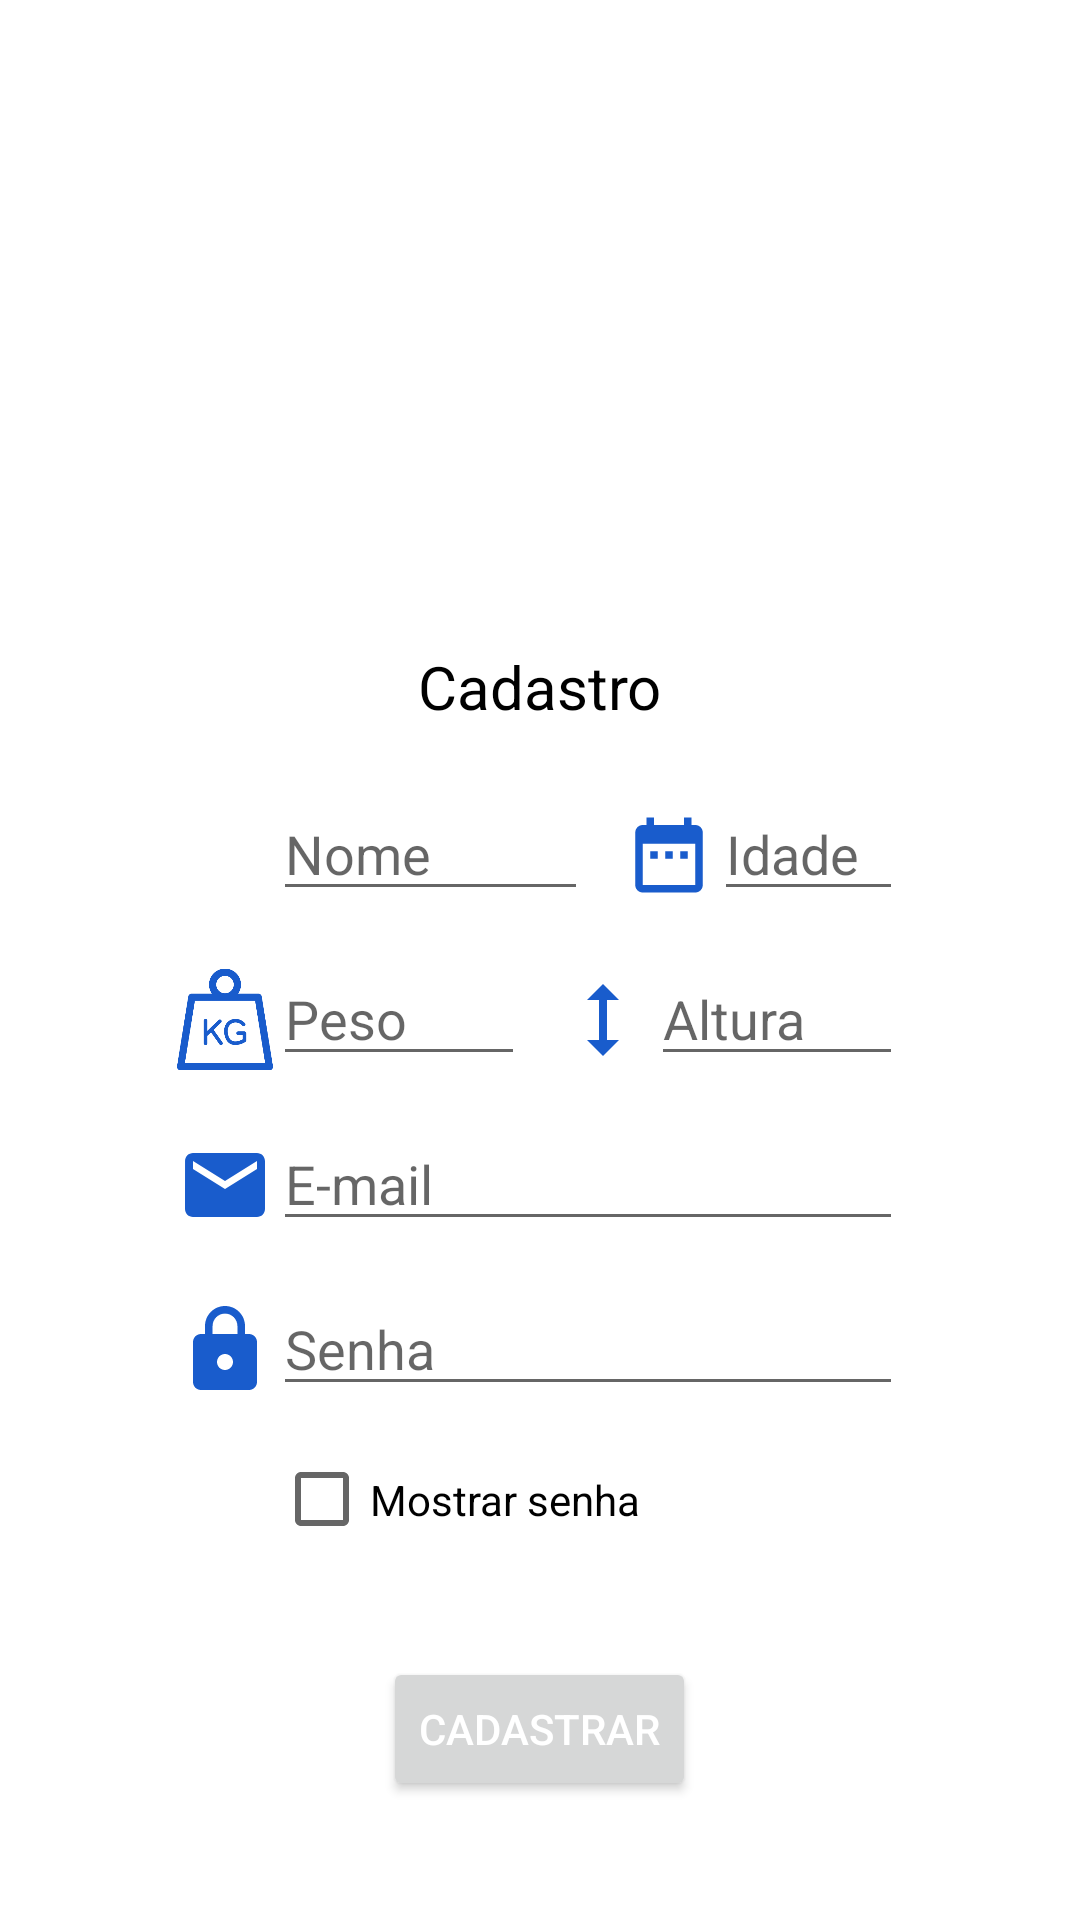

Named icons in this screenshot (1080px×1920px) and their bounding boxes, Rect(x1, y1, x2, y2):
cadeado: Rect(193, 1306, 257, 1390)
calendario: Rect(635, 817, 703, 893)
